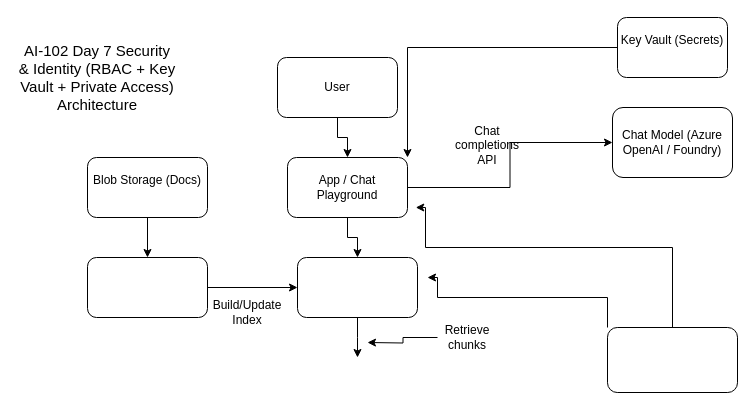
This 755x413 diagram has some shape labels left out. The centre of each missing label's shape, as x and y in pixels:
"Azure AI Search (Index)" goes at (357,287).
"Indexer" goes at (147,287).
"Managed Identity + RBAC" goes at (672,359).
